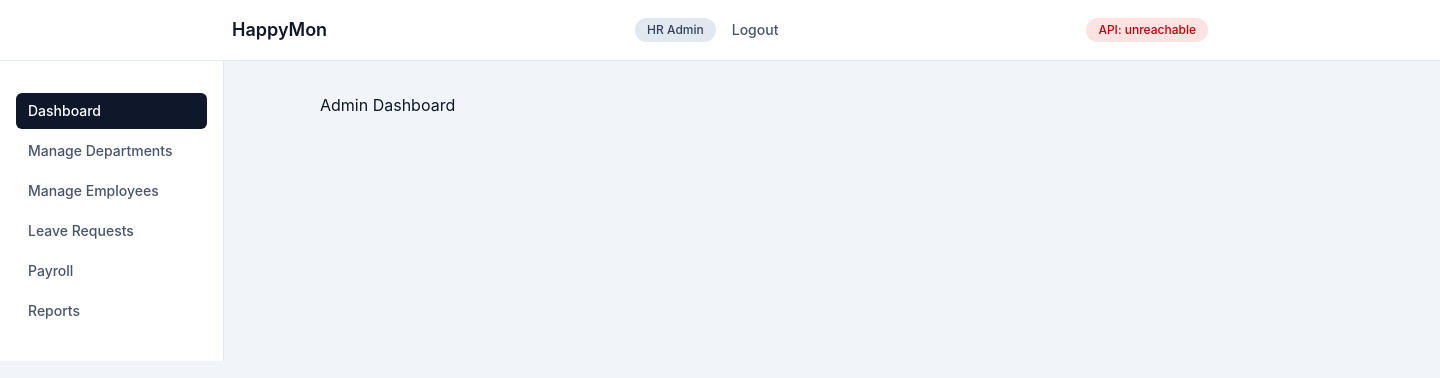
AppLayout › navigation active states › navigates to /admin/payroll via the sidebar Payroll link
The image size is (1440, 378).
Click the link "Payroll" at (51, 270), box top-left (28, 262), bottom-right (73, 279)
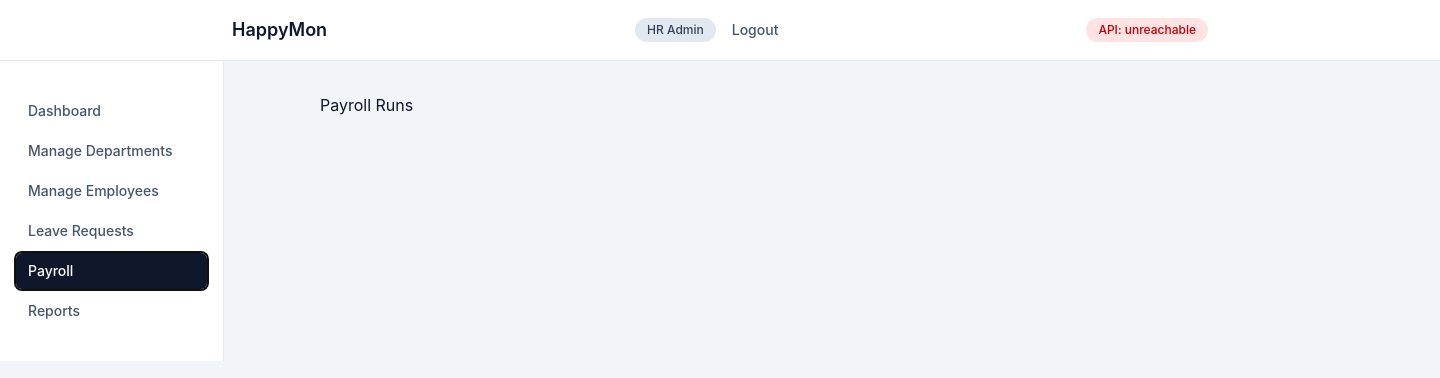
Check: the heading "Payroll Runs" is shown, box top-left (320, 95), bottom-right (413, 115)
